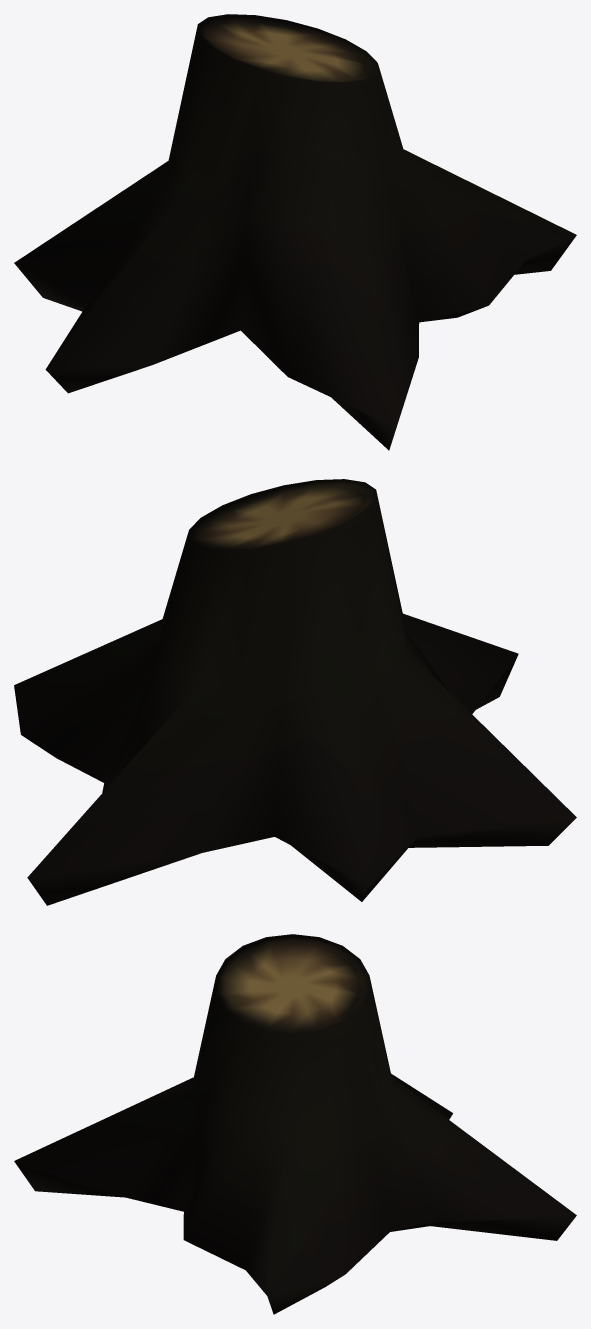
The model's file is Tree_Evergreen_Depleted.fbx.
The picture shows the model from 3 angles, top to bottom: view 1: azimuth 30°, elevation 25°; view 2: azimuth 150°, elevation 25°; view 3: azimuth 270°, elevation 25°; orthographic projection. The views are drawn at different scales.
Visible parts, largest first — view 1: Tree_Evergreen_Depleted; view 2: Tree_Evergreen_Depleted; view 3: Tree_Evergreen_Depleted.
Part boxes in pixels (x1=…): Tree_Evergreen_Depleted: x1=14, y1=14, x2=576, y2=450; Tree_Evergreen_Depleted: x1=14, y1=479, x2=576, y2=905; Tree_Evergreen_Depleted: x1=14, y1=934, x2=576, y2=1314.
Bounding box in the file's own units: 132 × 70.19 × 145.
